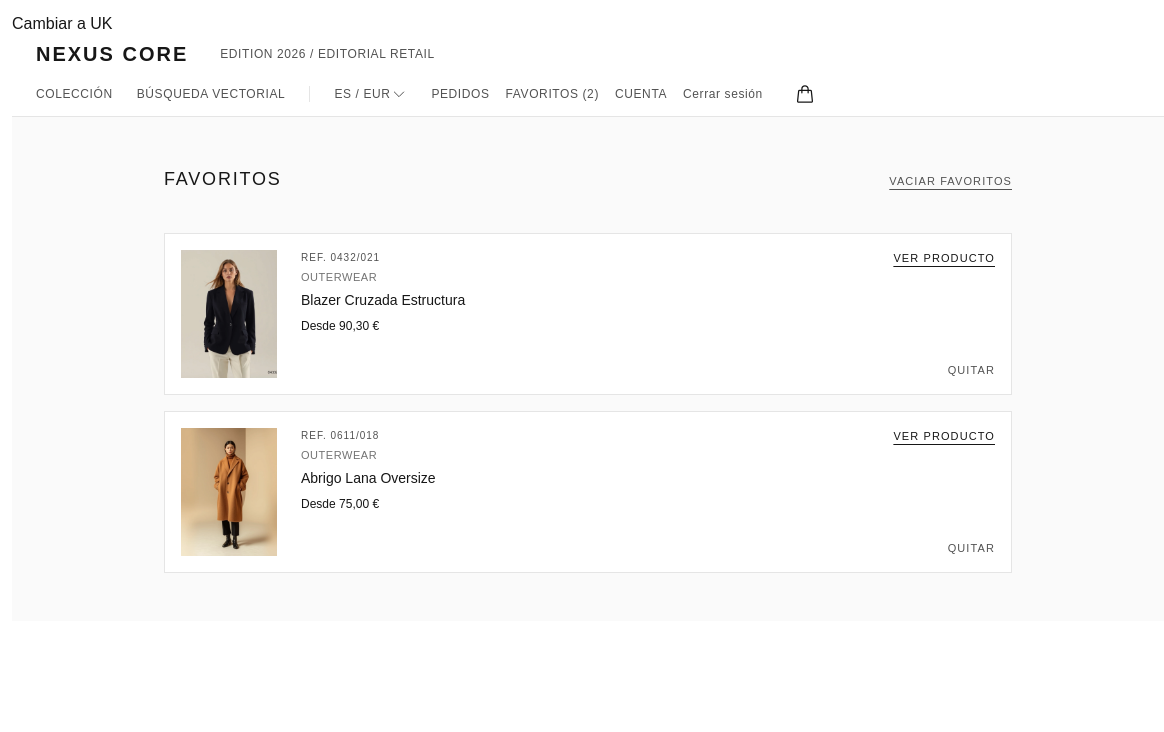
WishlistPage › «Vaciar»: sin confirm no se borra nada; con confirm se vacía la lista (R7.3)
Click the button "Vaciar favoritos". click: (951, 181)
box: [889,173,1012,190]
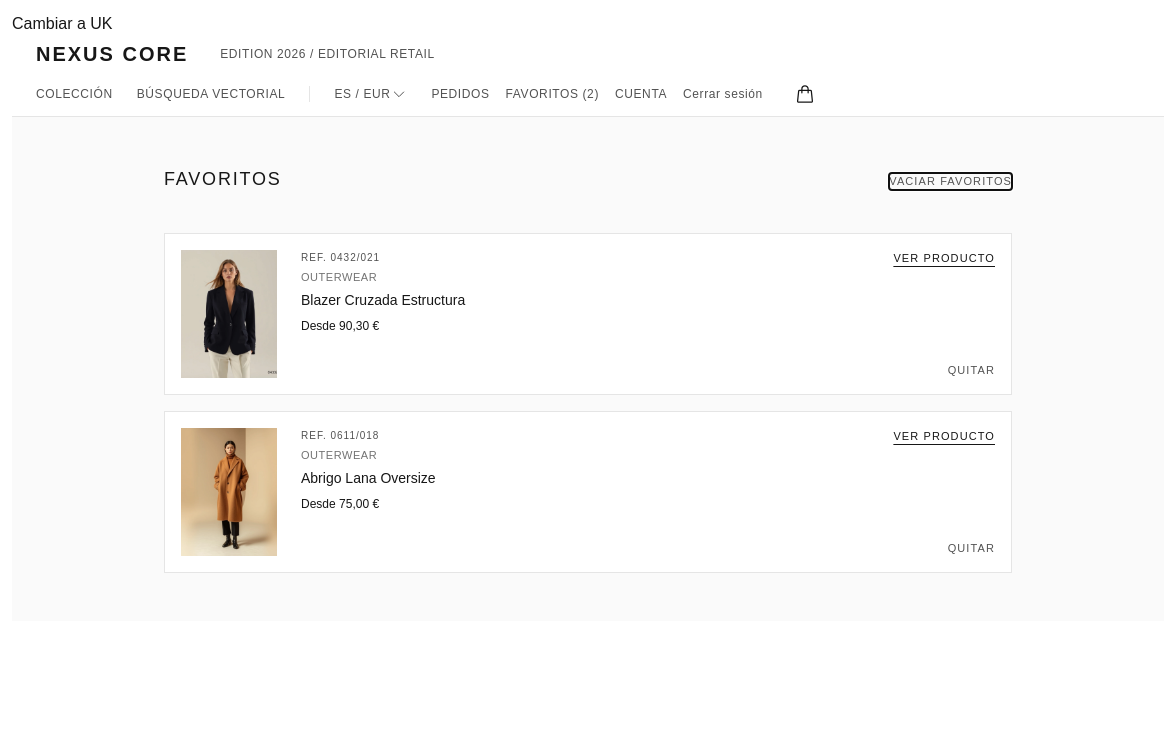
Check: the heading "Abrigo Lana Oversize" is shown, box [301,470,436,486]
Click the button "Vaciar favoritos". click: (951, 181)
box: [889,173,1012,190]
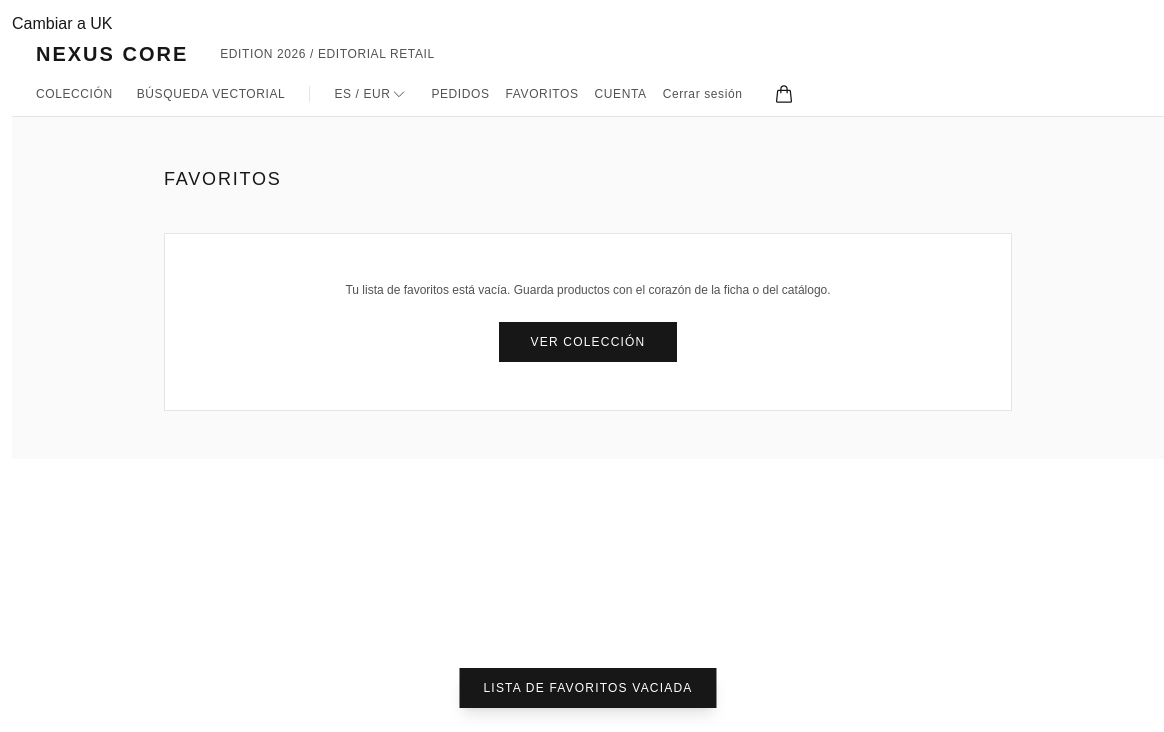
Check: the text "Tu lista de favoritos está vacía" is shown, box [345,283,831,297]
